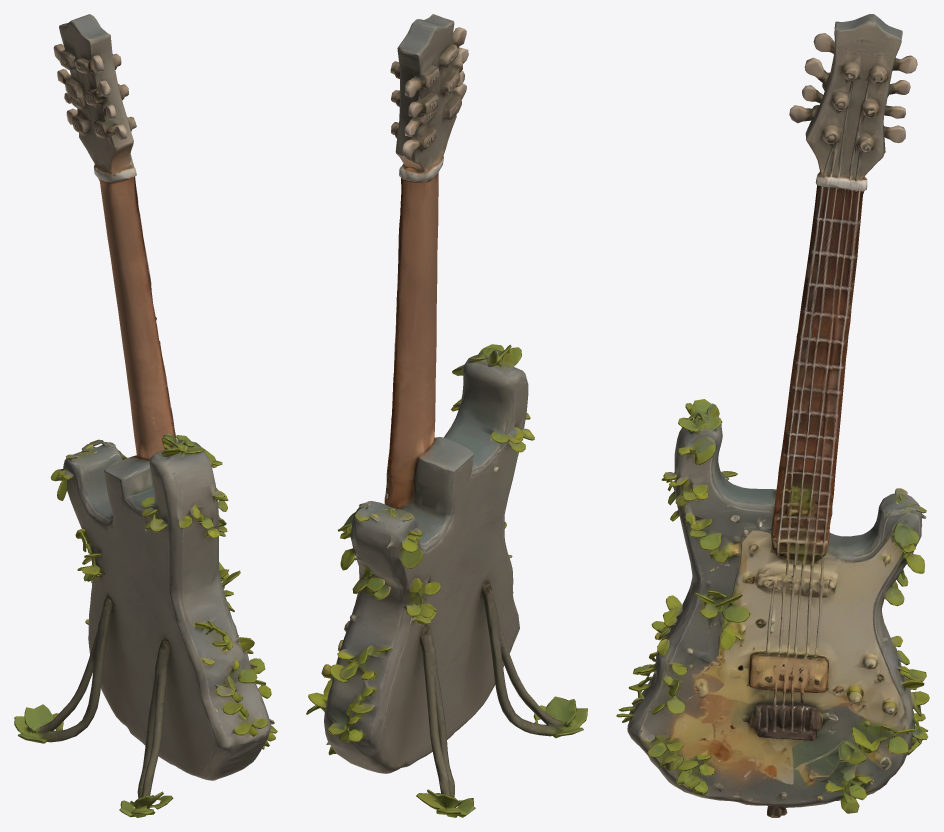
File: guitar.glb
The picture shows the model from 3 angles, left to right: view 1: azimuth 30°, elevation 25°; view 2: azimuth 150°, elevation 25°; view 3: azimuth 270°, elevation 25°; orthographic projection. The views are drawn at different scales.
Parts seen in each view (by area): view 1: tripo_node_0f79d156-9343-454e-88ae-b49c0b352bf7; view 2: tripo_node_0f79d156-9343-454e-88ae-b49c0b352bf7; view 3: tripo_node_0f79d156-9343-454e-88ae-b49c0b352bf7.
Boxes of the visible parts, x1,y1,x2,y2 form: tripo_node_0f79d156-9343-454e-88ae-b49c0b352bf7: (14,14,277,817); tripo_node_0f79d156-9343-454e-88ae-b49c0b352bf7: (306,14,587,817); tripo_node_0f79d156-9343-454e-88ae-b49c0b352bf7: (616,14,929,817).
Bounding box in the file's own units: 0.222 × 1 × 0.3739.
Materials: 1 (1 with a texture image).
